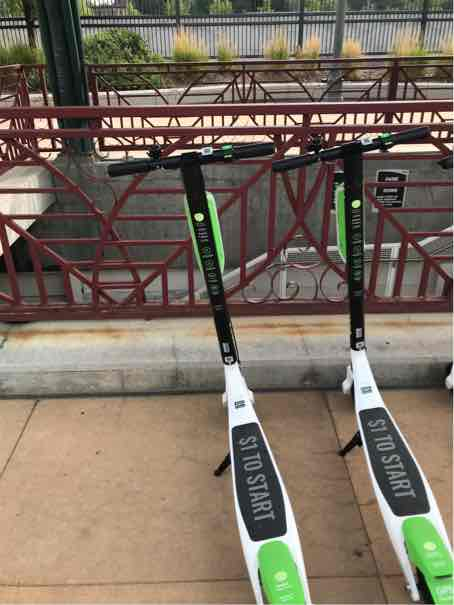scooter: (98, 137, 324, 605), (257, 120, 451, 605)
